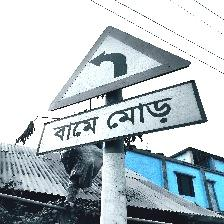Left-Turn: (39, 27, 205, 152)
